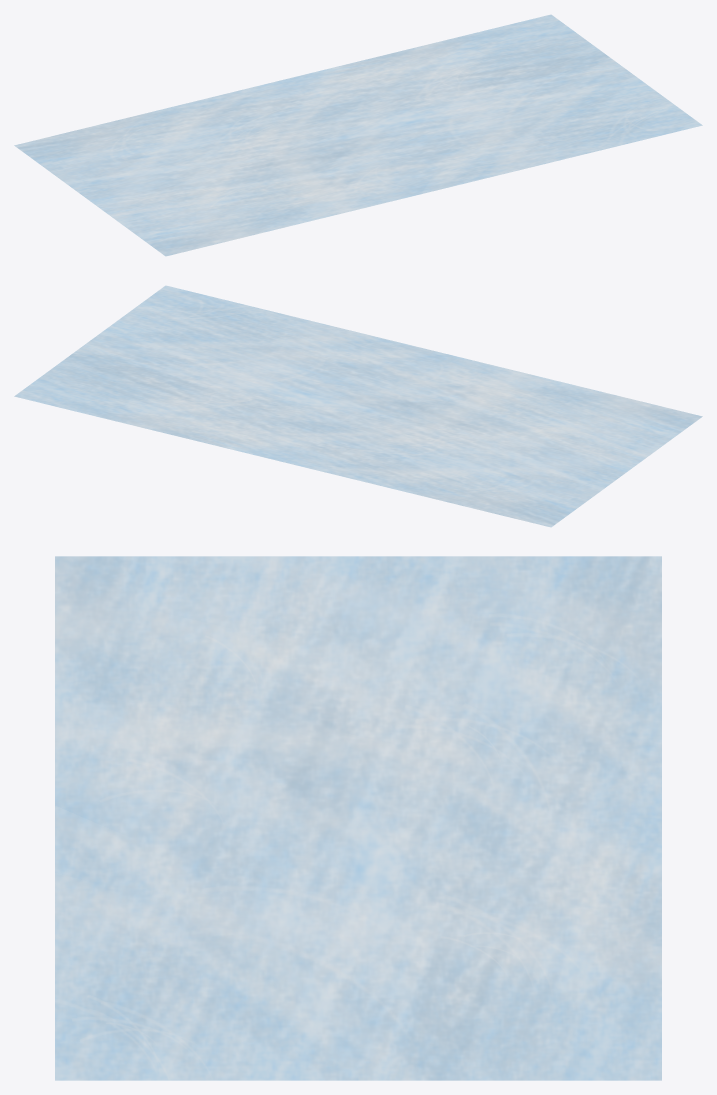
File: Ice Ground.FBX
3 views of the same model, one above another, from view 1: azimuth 30°, elevation 25°; view 2: azimuth 150°, elevation 25°; view 3: azimuth 270°, elevation 25° (orthographic). The views are drawn at different scales.
Visible parts, largest first — view 1: Plane002; view 2: Plane002; view 3: Plane002.
Boxes of the visible parts, box(x1,y1,x2,y2) form: Plane002: box(14, 14, 702, 256); Plane002: box(14, 285, 702, 527); Plane002: box(55, 556, 661, 1080).
Bounding box in the file's own units: 341 × 1.07e-14 × 167.
Materials: 1 (1 with a texture image).
